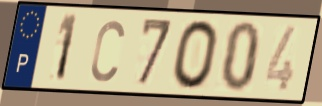0: (217, 19, 263, 95)
1: (55, 12, 80, 85)
4: (263, 24, 298, 95)
7: (137, 16, 175, 89)
C: (89, 17, 127, 84)
O: (170, 18, 221, 92)
